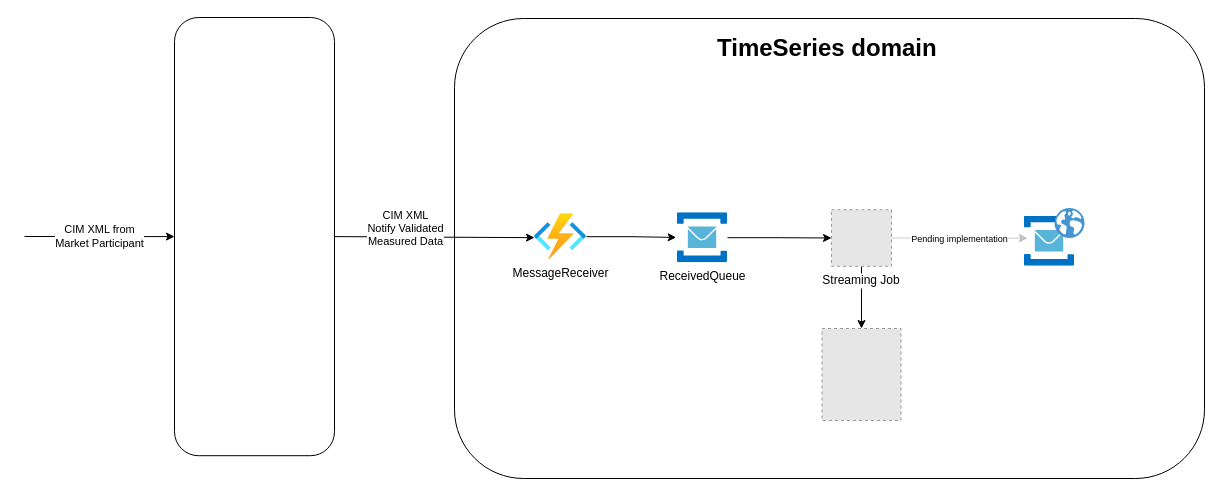
Some shapes in this 1222 by 496 pixel diagram are drawn without their labels. Grey dashed boxes stand in for pictures. Each missing label, with the box of its shape:
API Gateway: (174, 16, 334, 456)
TimeSeriesAccepted: (1024, 216, 1074, 266)
